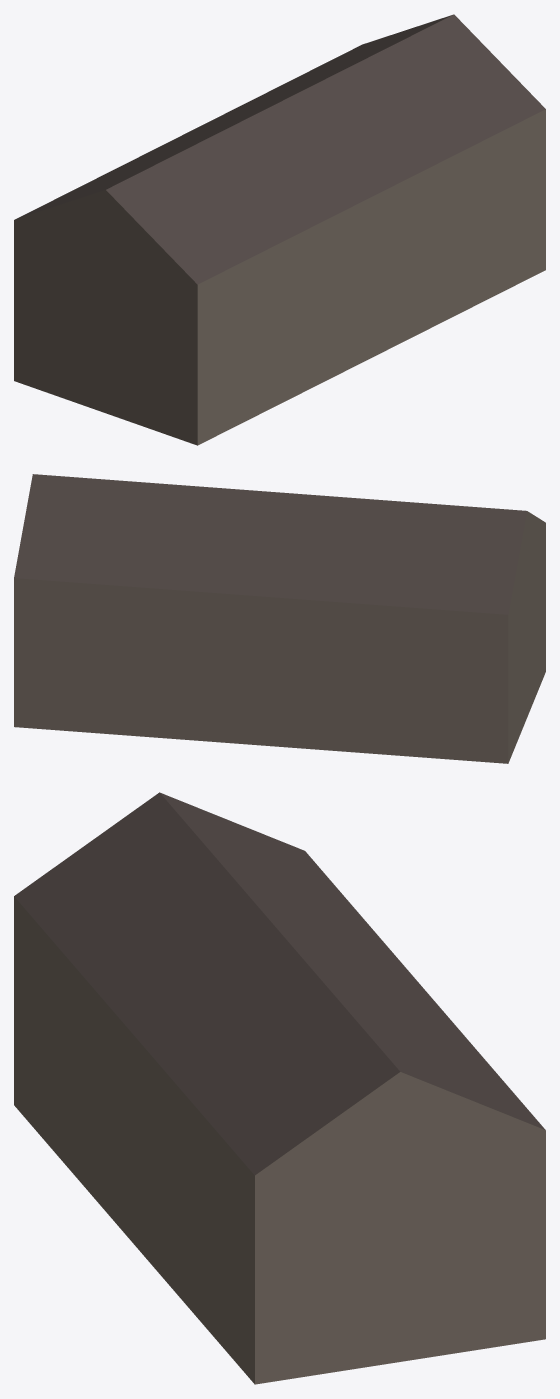
3 renders of one model, top to bottom at view 1: azimuth 30°, elevation 25°; view 2: azimuth 150°, elevation 25°; view 3: azimuth 270°, elevation 25°, orthographic. The views are drawn at different scales.
Visible parts, largest first — view 1: HP-w859078966; view 2: HP-w859078966; view 3: HP-w859078966.
Part boxes in pixels (x1,y1,x2,y2): HP-w859078966: (14,14,545,445); HP-w859078966: (14,474,545,763); HP-w859078966: (14,792,545,1384).
Bounding box in the file's own units: 30 × 12.5 × 20.77.
